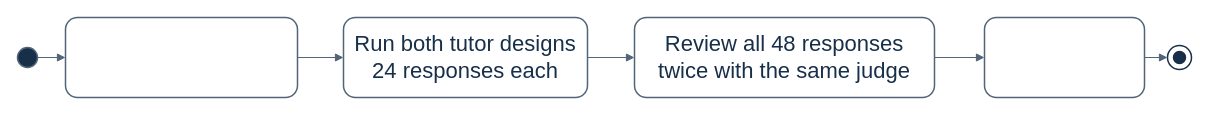
Some shapes in this 1210 by 116 pixel diagram are drawn without their labels. The shapes that lost their labels are listed below. From the top down, each one's centre as x and y in pixels, then its label:
[181,57]: 12 matched cases 2 turns per case
[1064,57]: Collect 96 ratings
